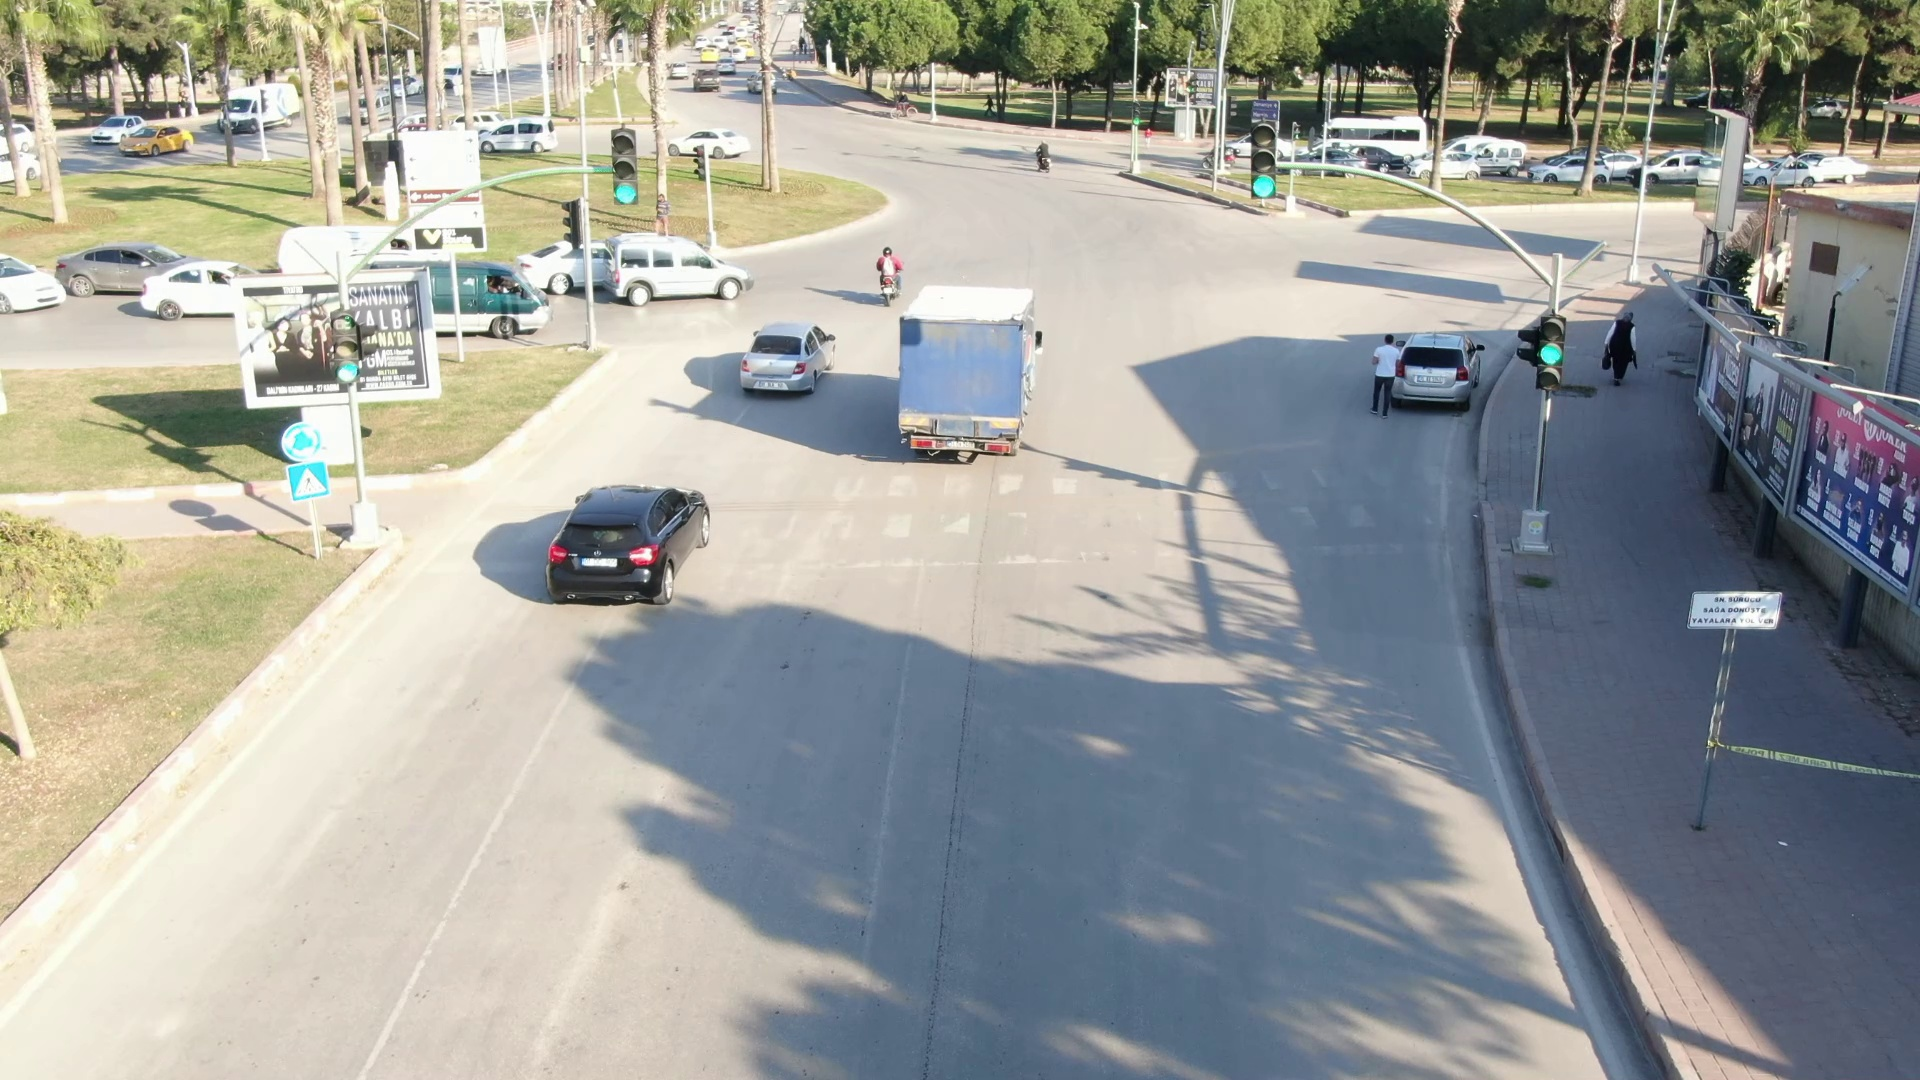car: (519, 467, 734, 629), (40, 230, 197, 313), (601, 227, 759, 309), (426, 256, 563, 341), (725, 301, 840, 399), (207, 77, 313, 138), (85, 105, 188, 166), (476, 97, 571, 159), (658, 114, 755, 173), (1491, 147, 1613, 189)
person: (1591, 306, 1649, 387), (1364, 326, 1409, 419)
